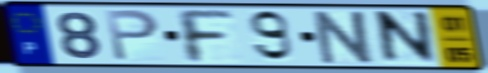8: (55, 10, 105, 60)
9: (246, 9, 296, 64)
F: (171, 7, 237, 65)
N: (312, 9, 378, 66), (376, 9, 438, 66)
P: (102, 8, 162, 63)
